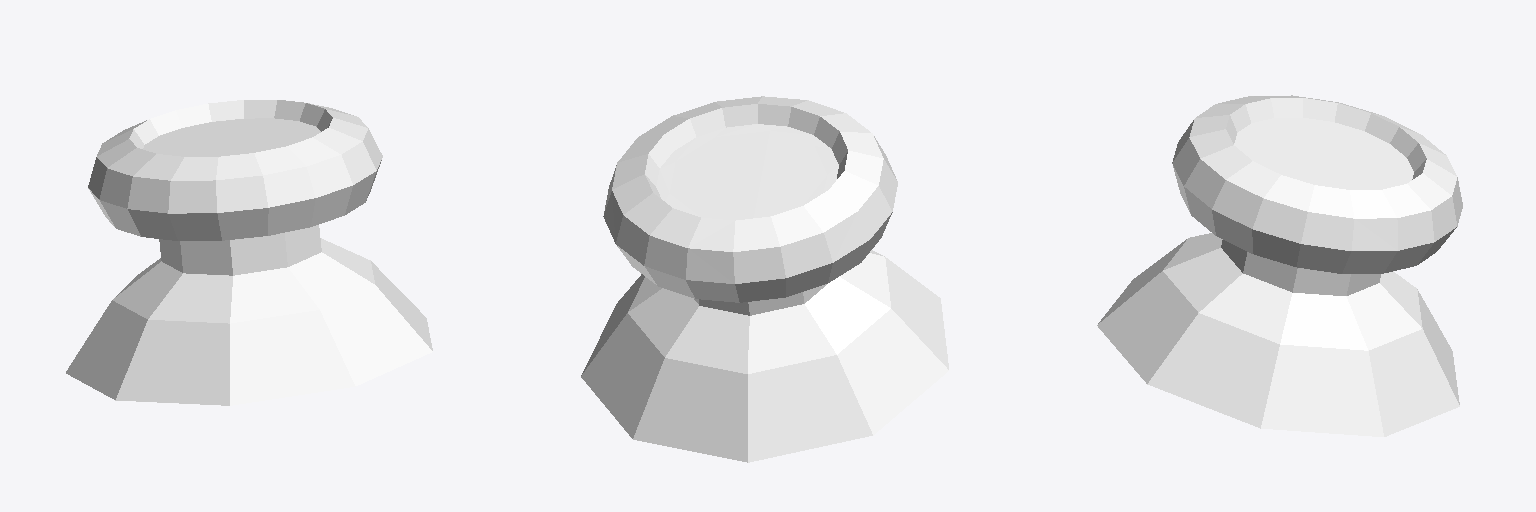
Rendered from stick.obj.
3 renders of one model, left to right at view 1: azimuth 30°, elevation 25°; view 2: azimuth 150°, elevation 25°; view 3: azimuth 270°, elevation 25°, orthographic.
Parts seen in each view (by area): view 1: b_stick_Mesh; view 2: b_stick_Mesh; view 3: b_stick_Mesh.
Boxes of the visible parts, x1=… form: b_stick_Mesh: x1=66, y1=100, x2=432, y2=405; b_stick_Mesh: x1=581, y1=96, x2=948, y2=462; b_stick_Mesh: x1=1097, y1=95, x2=1462, y2=436.
Bounding box in the file's own units: 0.0168 × 0.0129 × 0.0166.